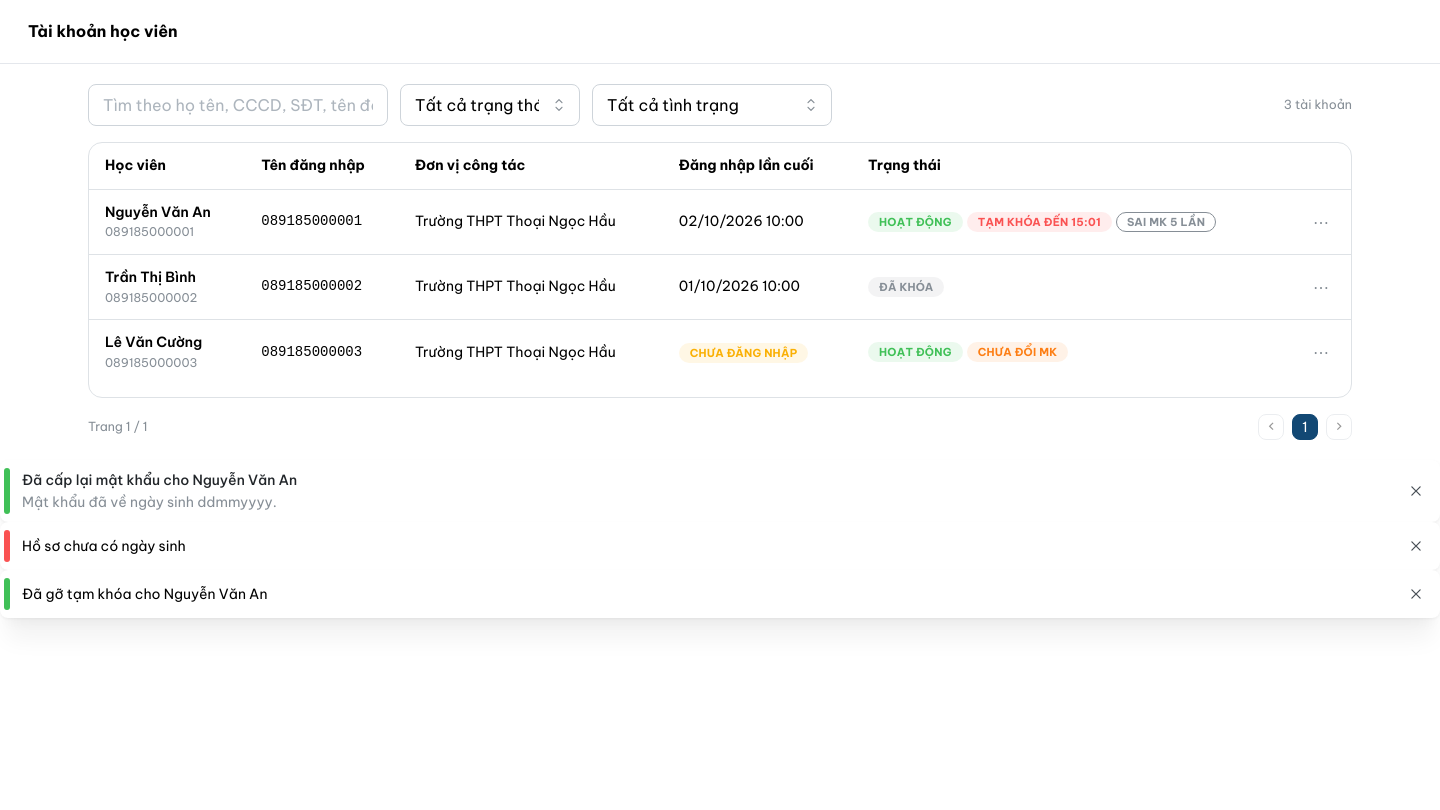
Test: Admin — Tài khoản học viên › khóa tài khoản hỏi xác nhận rồi PATCH trang_thai=ngung
The image size is (1440, 810).
Click the button "⋯" in the row of "Lê Văn Cường": click(1321, 352) x1=1307 y1=338 x2=1335 y2=366
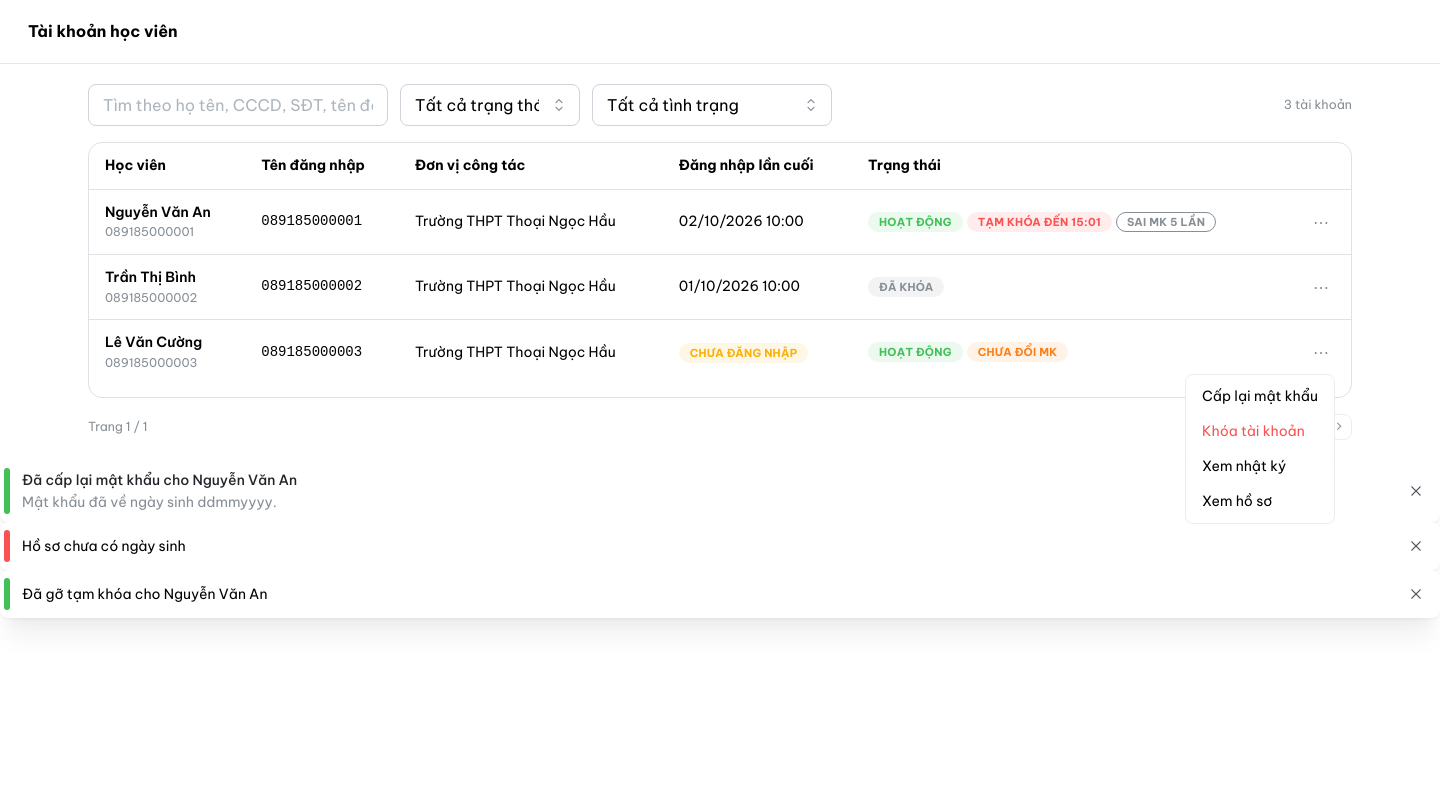
Click the menu item "Khóa tài khoản": click(1260, 432) x1=1190 y1=414 x2=1330 y2=449
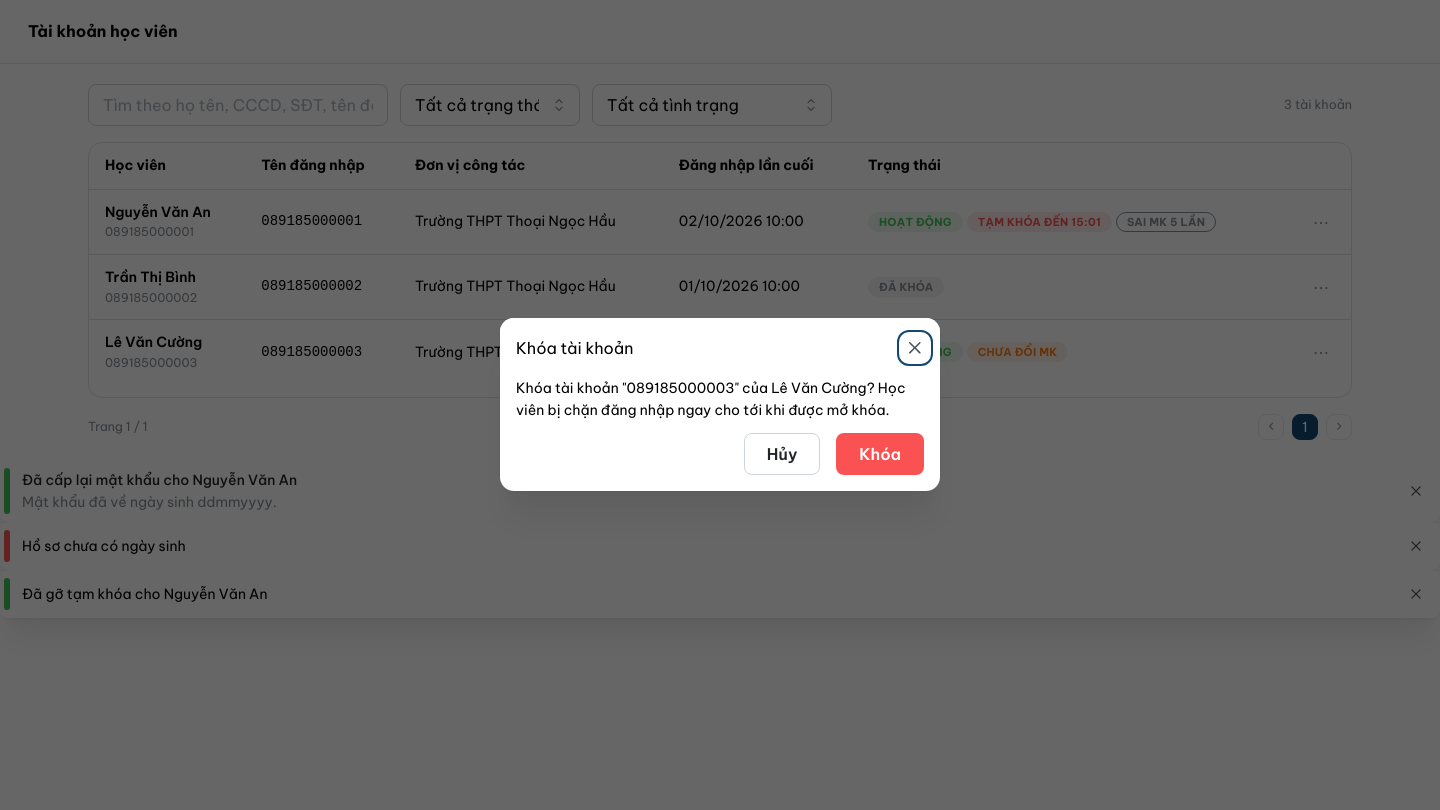
expect the text "bị chặn đăng nhập ngay" is shown: met, box x1=516 y1=379 x2=906 y2=419
Click the button "Khóa": click(880, 455) x1=836 y1=434 x2=924 y2=476
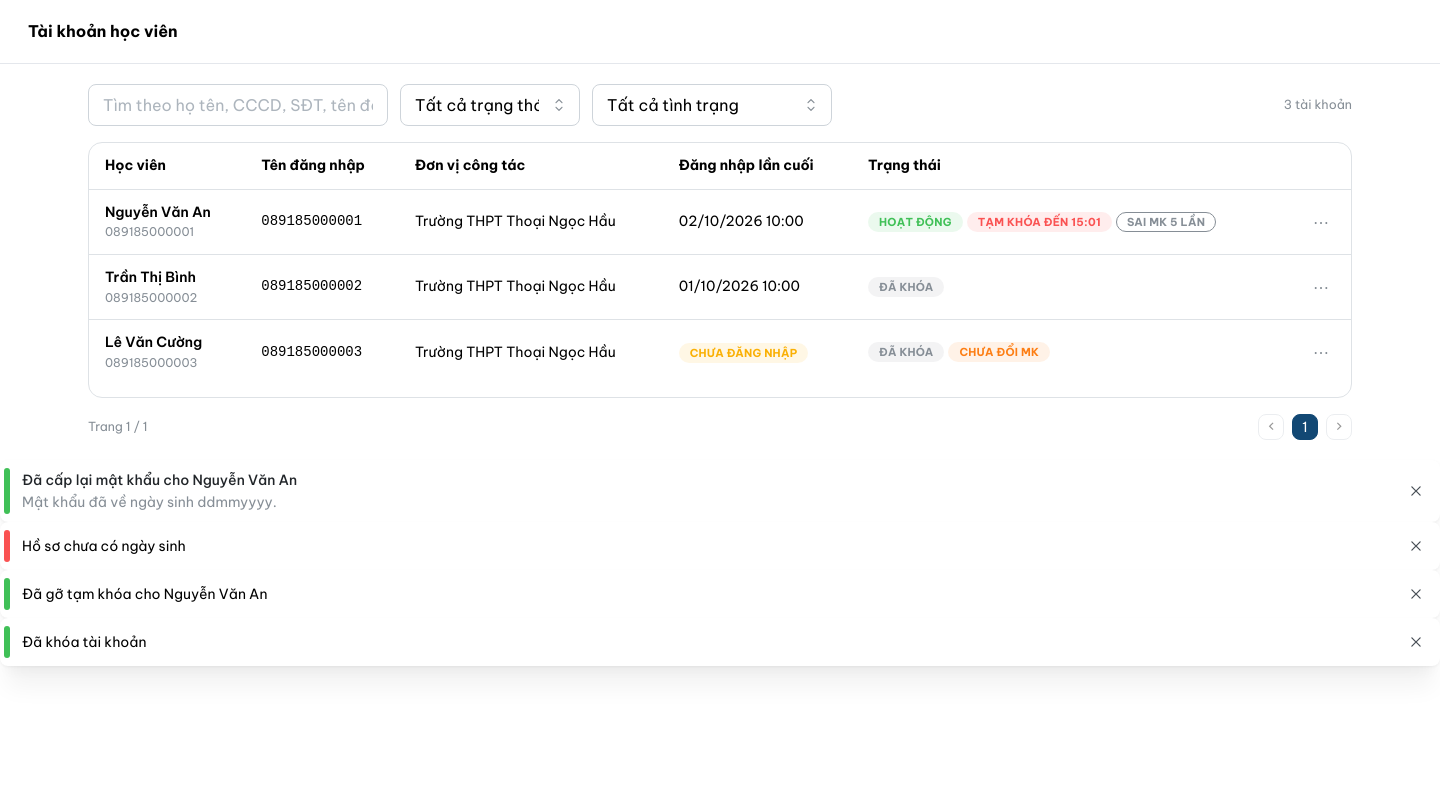
expect the text "Đã khóa tài khoản" is shown: met, box x1=22 y1=633 x2=146 y2=651
expect the text "Đã khóa" next to "Chưa đổi MK" is shown: met, box x1=879 y1=345 x2=933 y2=359
